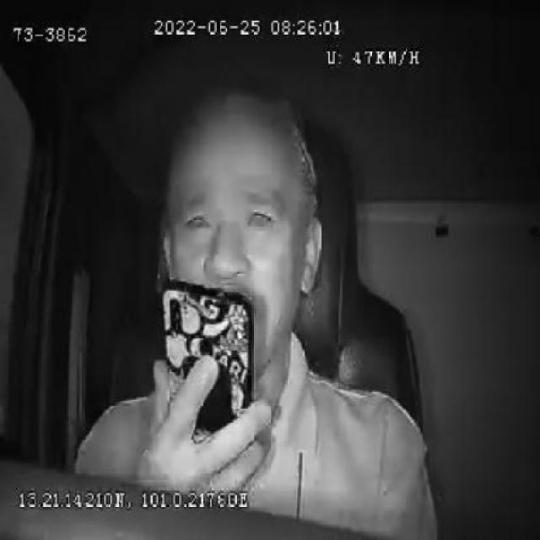phone: (160, 282, 254, 469)
